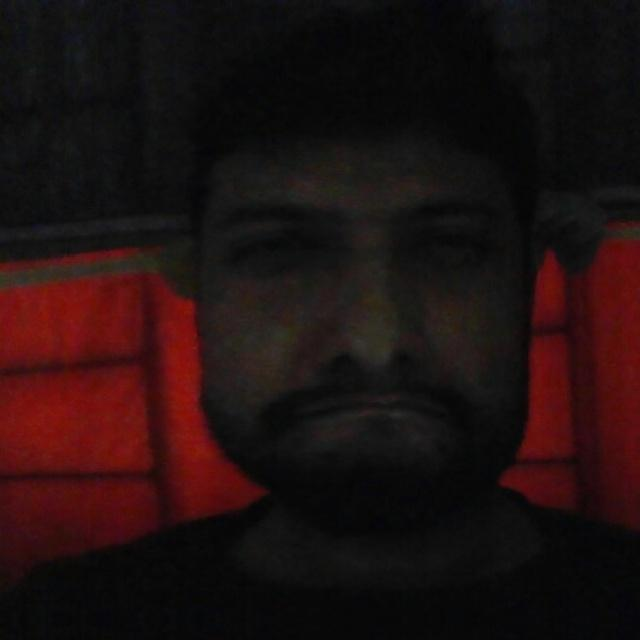Sad: (173, 74, 559, 585)
